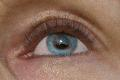eye: (46, 33, 78, 54)
